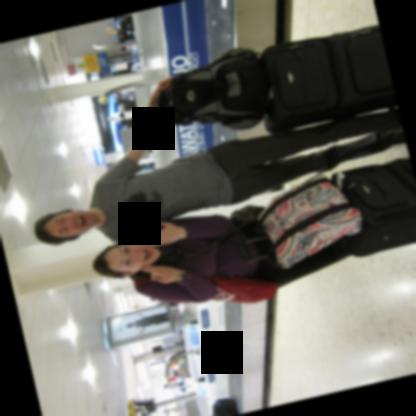backpack: (156, 47, 269, 132)
handbag: (256, 172, 363, 269), (161, 204, 265, 266), (206, 276, 277, 303)
suitcase: (262, 25, 397, 133), (331, 156, 416, 256), (212, 397, 239, 416)
